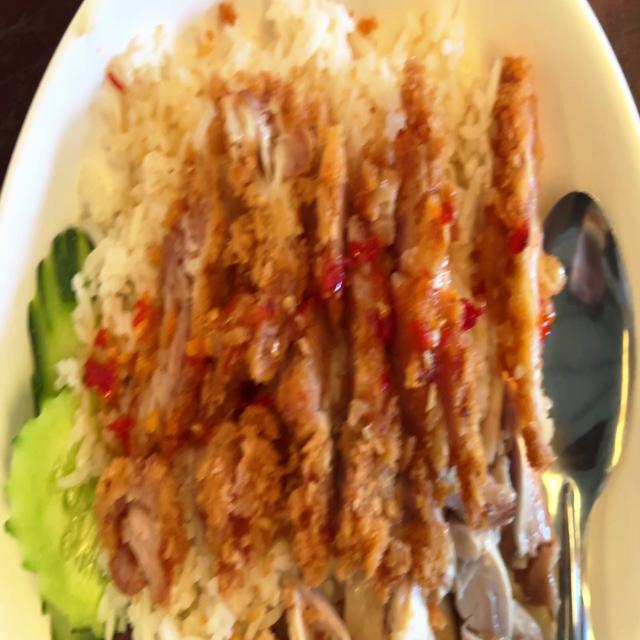boiled_chicken: (391, 473, 549, 640)
chicken_rice: (0, 0, 557, 640)
cucumber: (7, 221, 120, 633)
fried_chicken: (128, 86, 532, 518)
